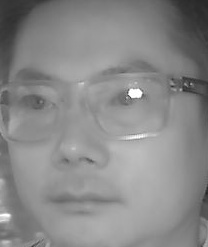glass: (83, 67, 175, 138), (2, 79, 71, 142)
mouth: (41, 186, 115, 220)
